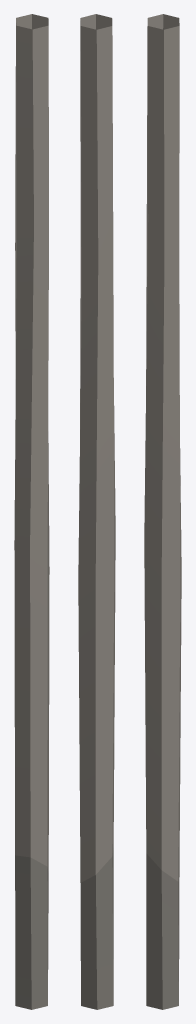
Rendered from SM_Bld_House_DrainPipe_02.obj.
3 renders of one model, left to right at view 1: azimuth 30°, elevation 25°; view 2: azimuth 150°, elevation 25°; view 3: azimuth 330°, elevation 25°, orthographic.
Visible parts, largest first — view 1: SM_Bld_House_DrainPipe_02_0; view 2: SM_Bld_House_DrainPipe_02_0; view 3: SM_Bld_House_DrainPipe_02_0.
Part boxes in pixels (x1=…): SM_Bld_House_DrainPipe_02_0: x1=14, y1=14, x2=49, y2=1009; SM_Bld_House_DrainPipe_02_0: x1=78, y1=14, x2=115, y2=1009; SM_Bld_House_DrainPipe_02_0: x1=144, y1=14, x2=181, y2=1009.
Size of the model in its own units: 0.1291 by 3.45 by 0.1077.
Materials: 1 (1 with a texture image).
